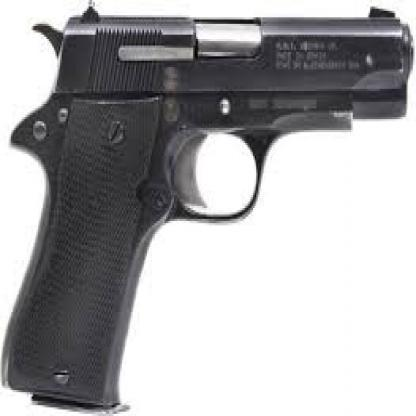Pistol: (3, 2, 412, 414)
